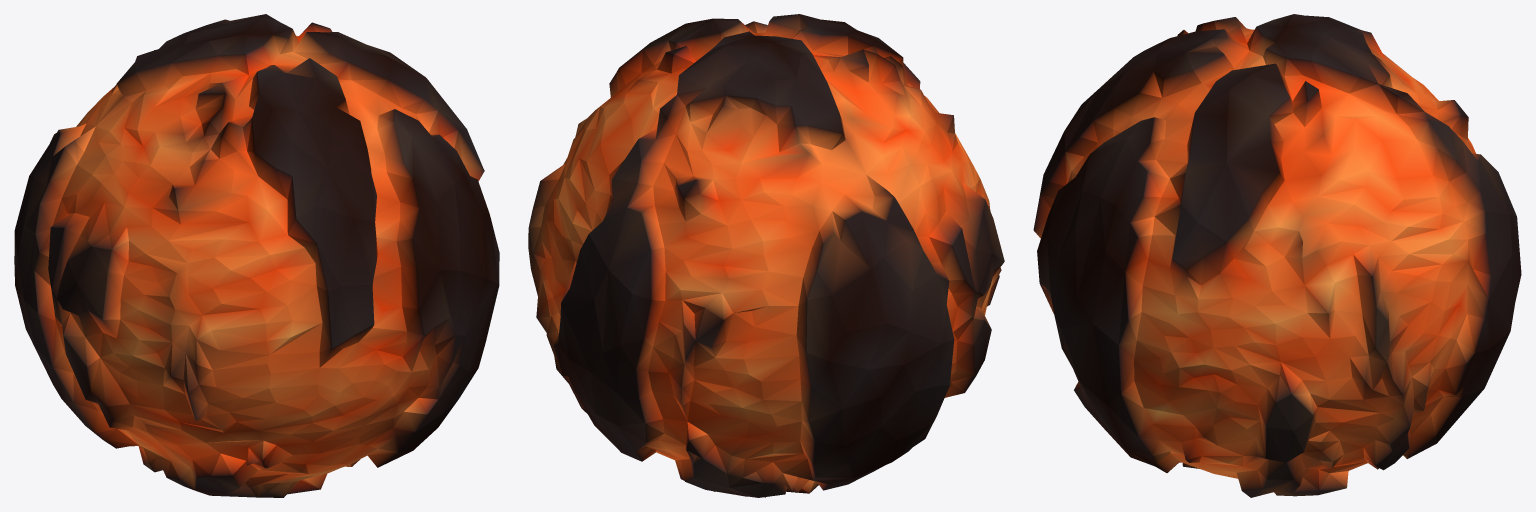
File: barren_10.fbx
3 views of the same model, side by side, from view 1: azimuth 30°, elevation 25°; view 2: azimuth 150°, elevation 25°; view 3: azimuth 270°, elevation 25° (orthographic).
Visible parts, largest first — view 1: filecache1; view 2: filecache1; view 3: filecache1.
Part boxes in pixels (<box>): filecache1: <box>14,14,499,497</box>; filecache1: <box>528,14,1004,497</box>; filecache1: <box>1033,14,1521,497</box>.
Bounding box in the file's own units: 2.15 × 2.17 × 2.17.
